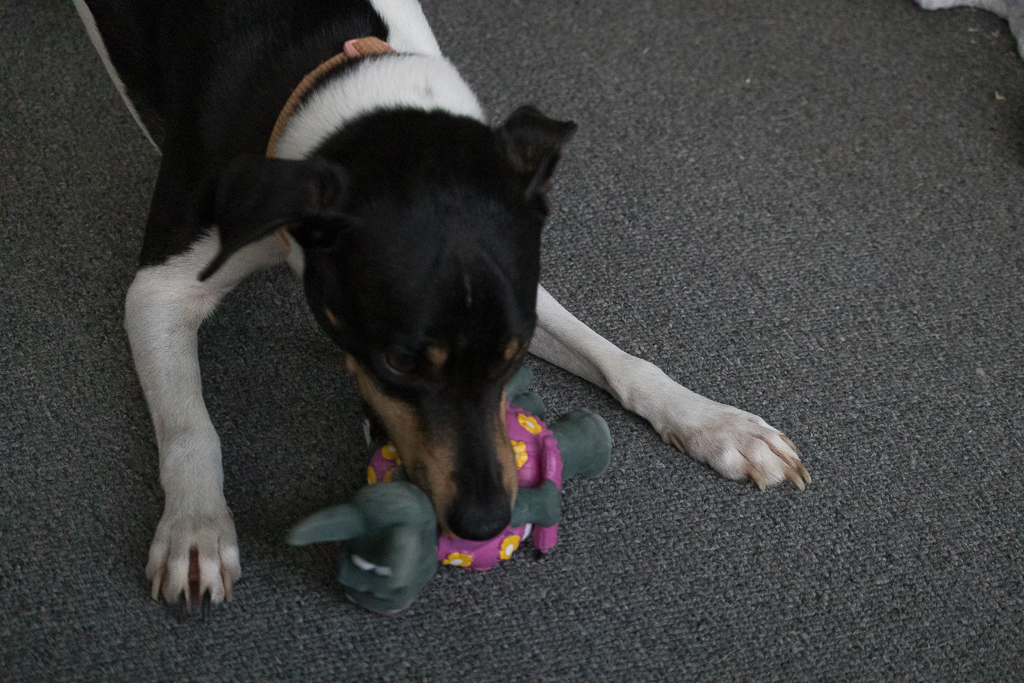Dog: (56, 0, 838, 635)
Humanoid: (280, 354, 626, 623)
